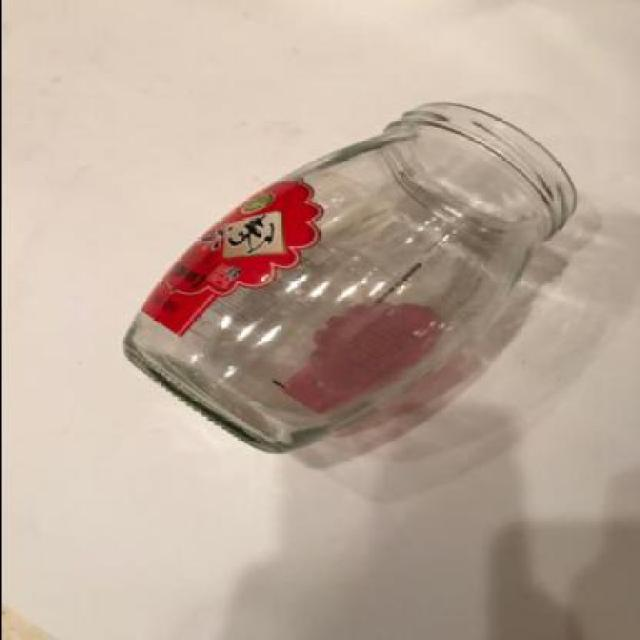glass: (120, 100, 572, 451)
